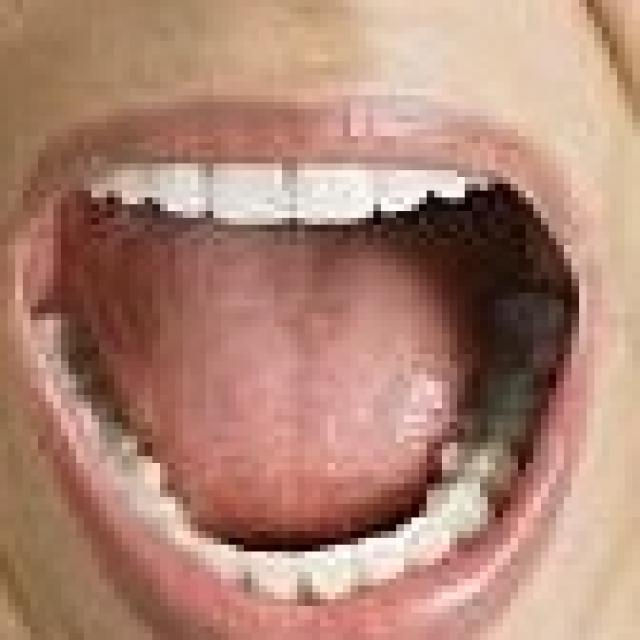open-mouth: (8, 89, 602, 634)
